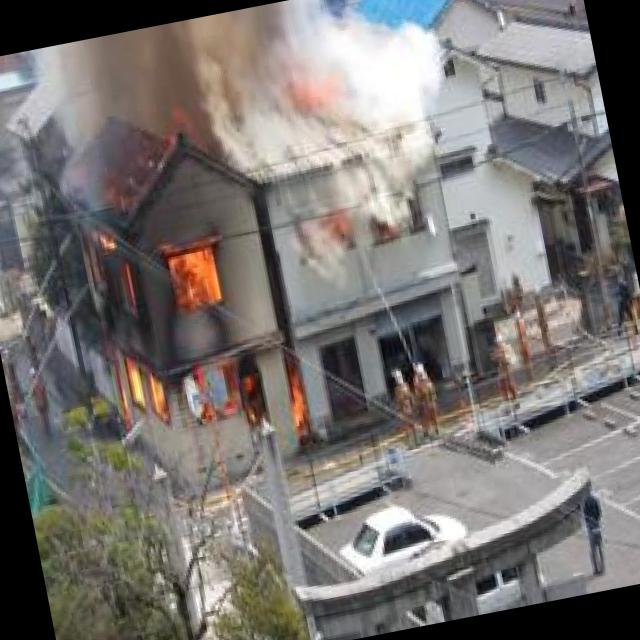Fire: (81, 202, 332, 480)
Smoke: (49, 0, 457, 214)
